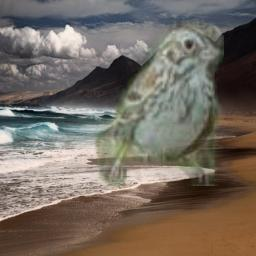Sparrow: (94, 20, 224, 186)
